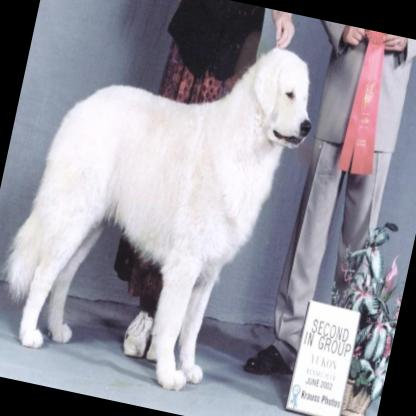kuvasz: (0, 0, 325, 406)
